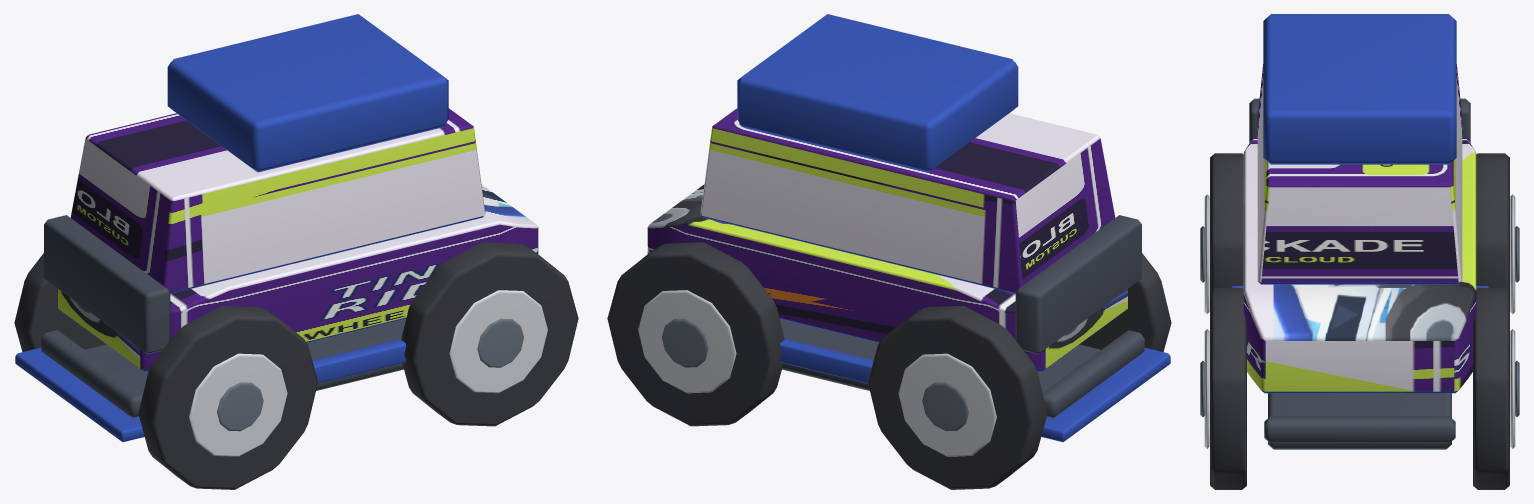
3 renders of one model, left to right at view 1: azimuth 30°, elevation 25°; view 2: azimuth 150°, elevation 25°; view 3: azimuth 270°, elevation 25°, orthographic. The views are drawn at different scales.
Parts seen in each view (by area): view 1: BW-02_cabin, armored roof canopy, BW-02_connected_shell, Tire, Tire.002, armored face guard, Rim, Rim.002, custom chin, underbody, Tire.001, front bumper (+3 smaller); view 2: BW-02_cabin, armored roof canopy, BW-02_connected_shell, Tire.001, Tire.003, armored face guard, Rim.001, Rim.003, custom chin, underbody, Tire, front bumper (+3 smaller); view 3: armored roof canopy, BW-02_connected_shell, BW-02_cabin, Tire.002, Tire.003, underbody, rear bumper, Tire, Tire.001, armored face guard, Rim.002, Rim.003 (+2 smaller).
Boxes of the visible parts, x1,y1,x2,y2 form: BW-02_cabin: (70, 108, 485, 293); armored roof canopy: (167, 14, 448, 172); BW-02_connected_shell: (58, 184, 538, 371); Tire: (138, 306, 317, 489); Tire.002: (401, 242, 578, 426); armored face guard: (44, 215, 170, 354); Rim: (189, 353, 287, 456); Rim.002: (449, 290, 547, 393); custom chin: (15, 347, 144, 442); underbody: (85, 319, 405, 392); Tire.001: (14, 253, 106, 351); front bumper: (41, 330, 143, 418); BW-02_cabin: (700, 108, 1115, 293); armored roof canopy: (737, 14, 1018, 172); BW-02_connected_shell: (647, 184, 1127, 371); Tire.001: (868, 306, 1047, 489); Tire.003: (607, 242, 784, 426); armored face guard: (1015, 215, 1141, 354); Rim.001: (898, 353, 996, 456); Rim.003: (638, 290, 736, 393); custom chin: (1041, 347, 1170, 442); underbody: (780, 319, 1100, 392); Tire: (1079, 253, 1171, 351); front bumper: (1042, 330, 1144, 418); armored roof canopy: (1263, 14, 1456, 164); BW-02_connected_shell: (1243, 136, 1476, 393); BW-02_cabin: (1257, 64, 1462, 284); Tire.002: (1210, 288, 1246, 489); Tire.003: (1473, 288, 1509, 489); underbody: (1268, 393, 1451, 449); rear bumper: (1264, 416, 1455, 442); Tire: (1210, 153, 1243, 291); Tire.001: (1476, 153, 1509, 291); armored face guard: (1249, 98, 1470, 142); Rim.002: (1204, 329, 1209, 448); Rim.003: (1510, 329, 1515, 448).
Size of the model in its own units: 381 by 279 by 225.
